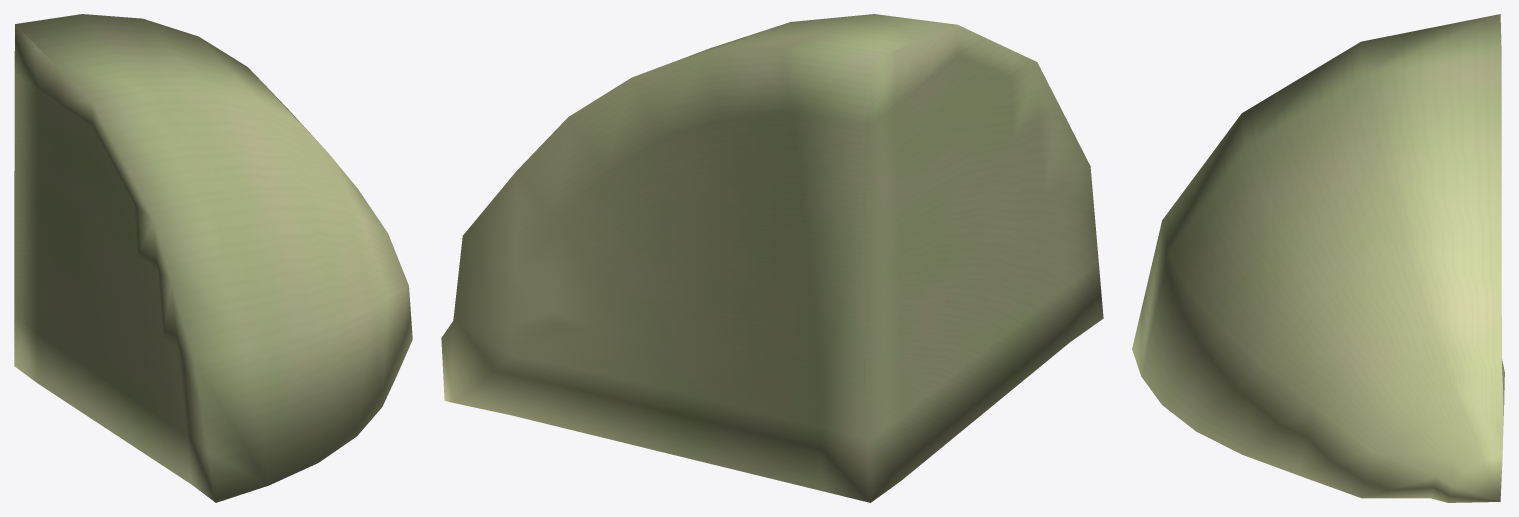
Rendered from WhiteOnion_Quarters1.glb.
3 renders of one model, left to right at view 1: azimuth 30°, elevation 25°; view 2: azimuth 150°, elevation 25°; view 3: azimuth 270°, elevation 25°, orthographic. The views are drawn at different scales.
Visible parts, largest first — view 1: Sphere; view 2: Sphere; view 3: Sphere.
Part boxes in pixels (box(x1,y1,x2,y2)): Sphere: box(14, 14, 412, 502); Sphere: box(441, 14, 1103, 502); Sphere: box(1132, 14, 1504, 502).
Bounding box in the file's own units: 1.98 × 1.94 × 1.97.
Materials: 1 (1 with a texture image).
